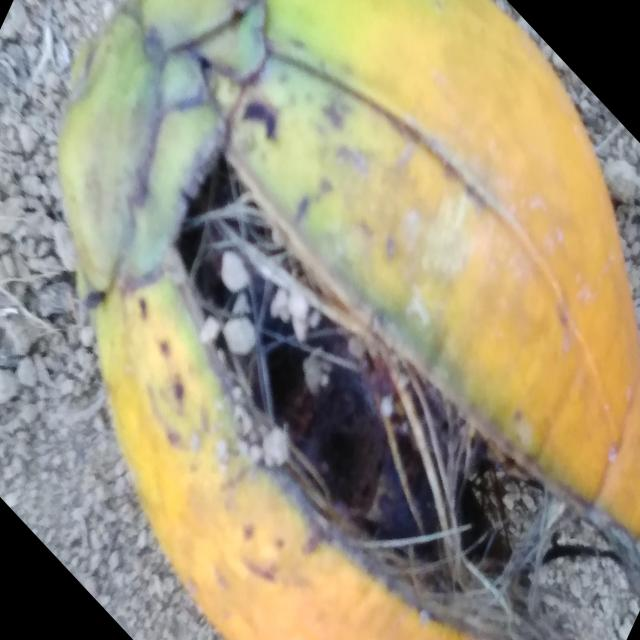damaged: (57, 0, 640, 640)
